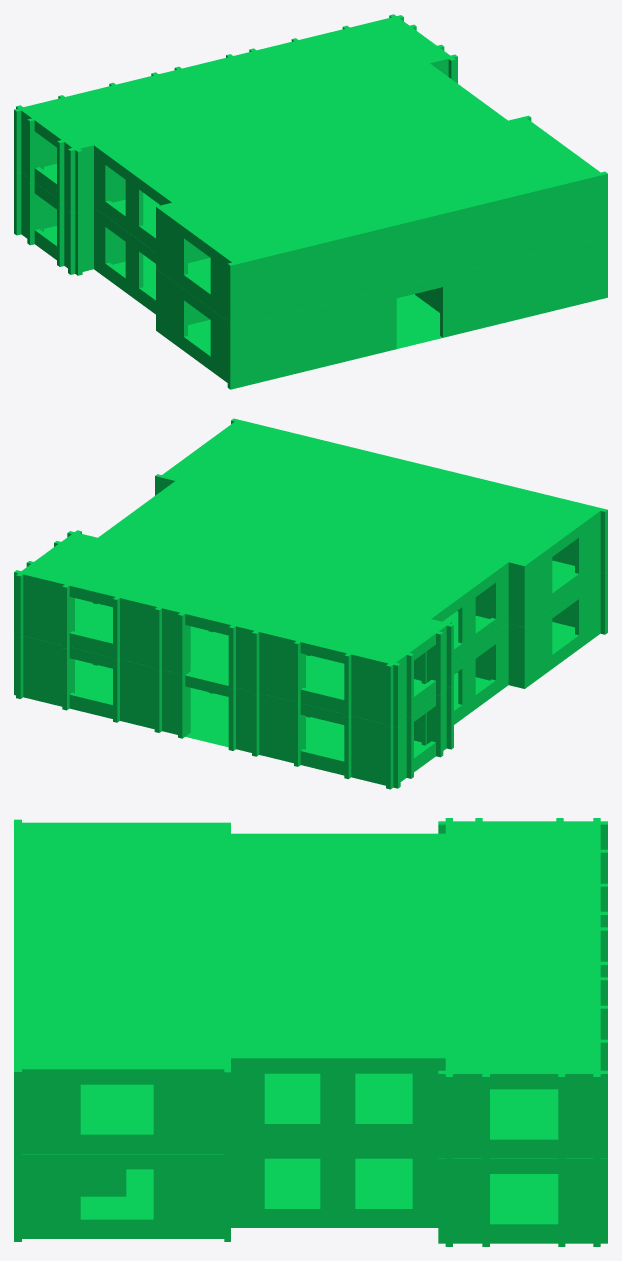
File: hut.fbx
The picture shows the model from 3 angles, top to bottom: view 1: azimuth 30°, elevation 25°; view 2: azimuth 150°, elevation 25°; view 3: azimuth 270°, elevation 25°; orthographic projection. The views are drawn at different scales.
Parts seen in each view (by area): view 1: floor1; view 2: floor1; view 3: floor1.
Boxes of the visible parts, left/top/right/bottom form: floor1: left=14, top=14, right=607, bottom=389; floor1: left=14, top=418, right=607, bottom=789; floor1: left=14, top=818, right=607, bottom=1246.
Size of the model in its own units: 16600 by 5080 by 16100.
